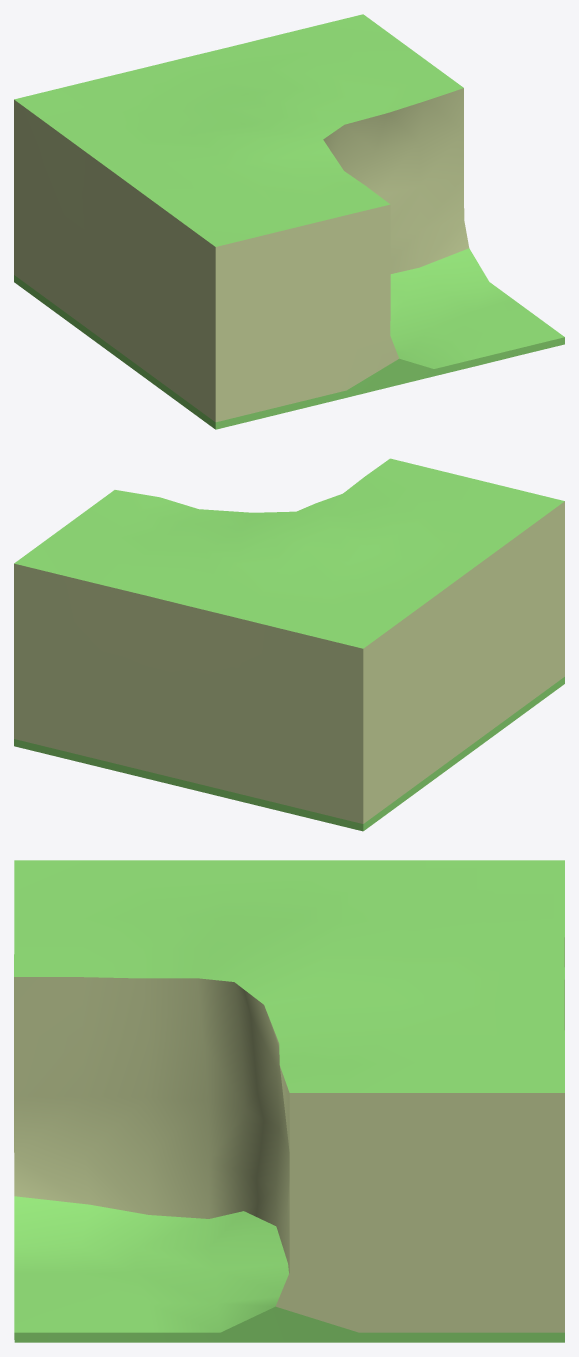
Rendered from wall_convex_1.glb.
The picture shows the model from 3 angles, top to bottom: view 1: azimuth 30°, elevation 25°; view 2: azimuth 150°, elevation 25°; view 3: azimuth 270°, elevation 25°; orthographic projection. The views are drawn at different scales.
Visible parts, largest first — view 1: wall_convex_1; view 2: wall_convex_1; view 3: wall_convex_1.
Boxes of the visible parts, x1,y1,x2,y2 form: wall_convex_1: (14,14,564,429); wall_convex_1: (14,458,564,831); wall_convex_1: (14,860,564,1342).
Bounding box in the file's own units: 2 × 1.04 × 2.
